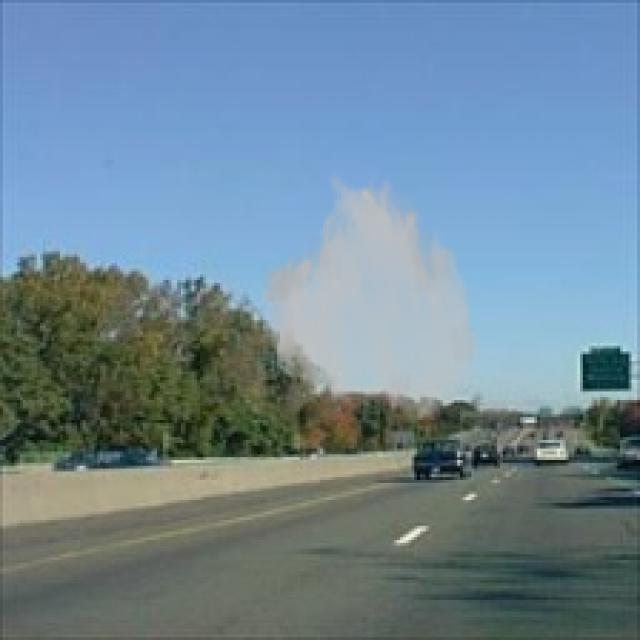smoke: (257, 168, 480, 426)
